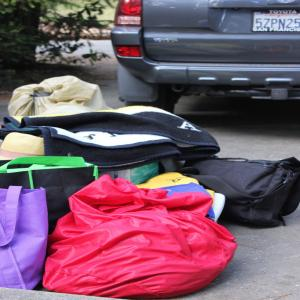Vehicle-registration-plate: (258, 8, 292, 29)
